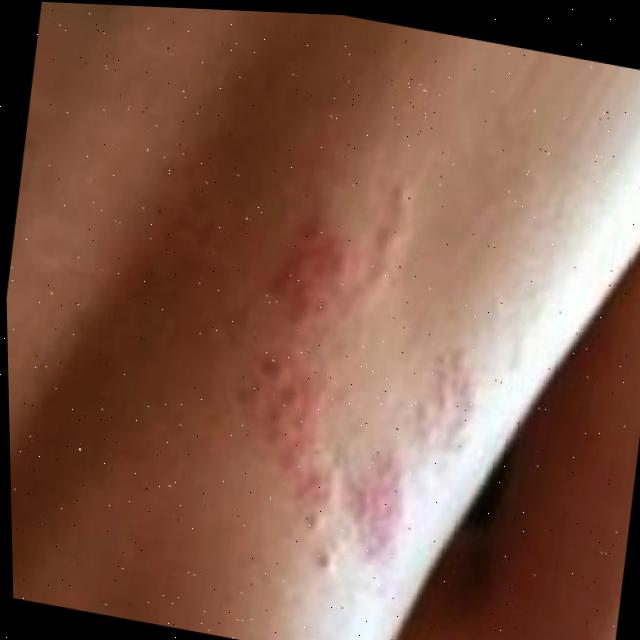Shingles: (207, 147, 519, 599)
